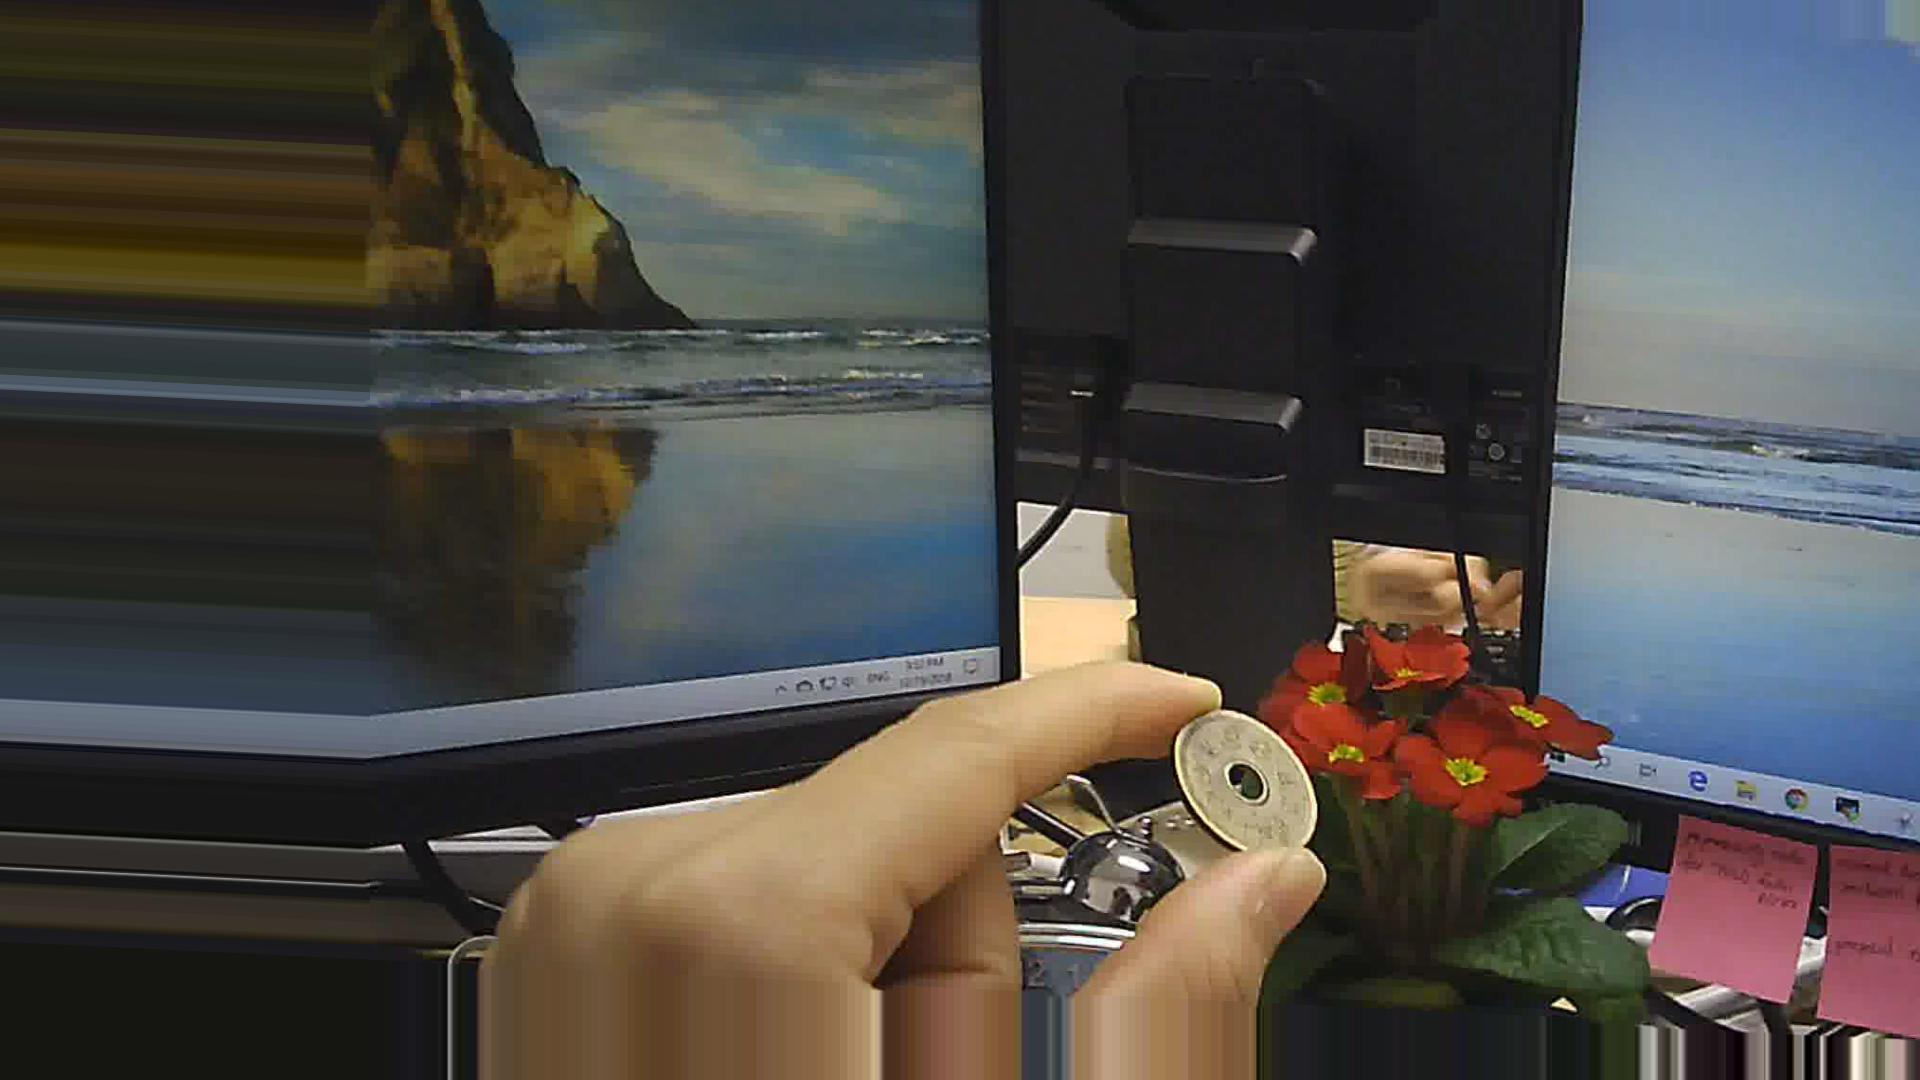5 Yen: (1164, 705, 1331, 865)
